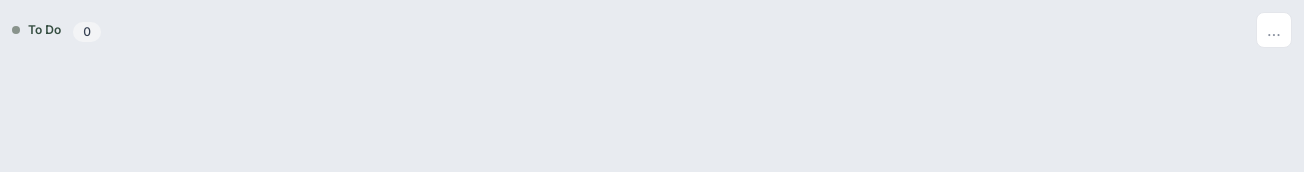
Test: ColumnHeader › Escape cancels without renaming
Click the button with aria-label "Rename column: To Do".
click(45, 30)  # box 24,19 -> 65,41
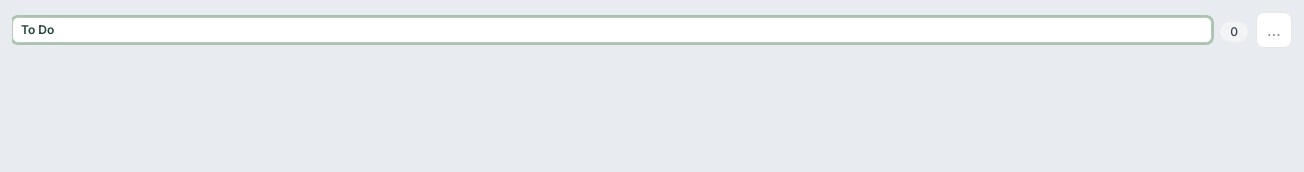
Type "x" into the field named "Column name".
click(612, 30); type("x")  # box 12,17 -> 1212,43
Then press Escape
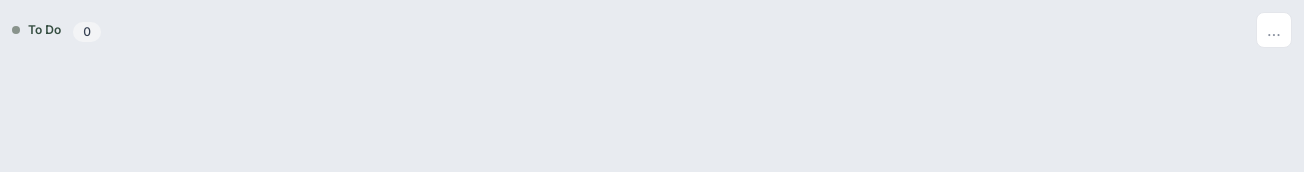
expect the button with aria-label "Rename column: To Do" is shown: met, box 24,19 -> 65,41
